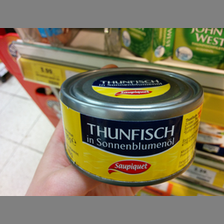fish: (60, 67, 204, 187)
